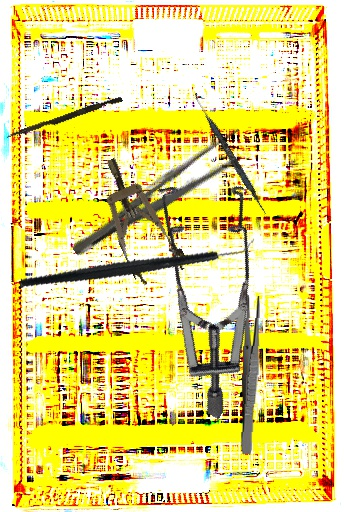Chopper: (19, 191, 255, 333)
Dressing Forceps: (65, 123, 255, 268), (239, 295, 262, 455)
Pusher: (6, 93, 123, 143)
Spatula Surgical: (189, 92, 271, 216)
Speculum: (73, 151, 326, 420), (86, 147, 190, 290)
